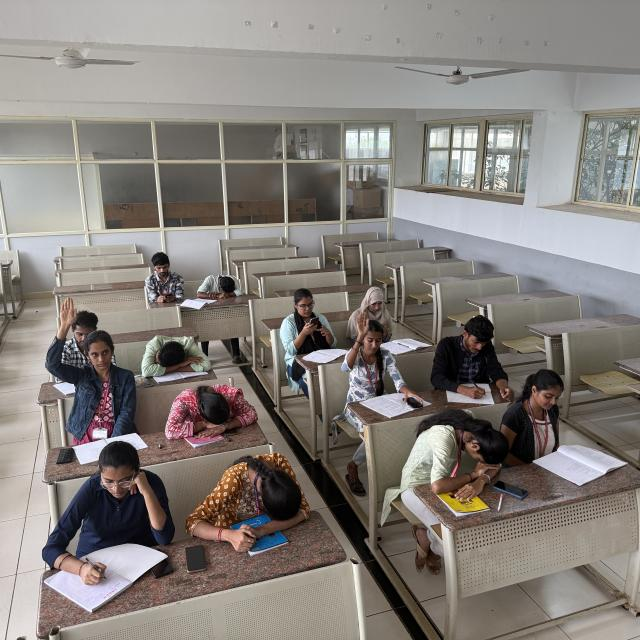Hand Rising: (44, 292, 138, 428), (344, 310, 406, 400)
Reading: (499, 369, 584, 462)
Sleeping: (197, 451, 316, 526), (414, 404, 514, 485), (164, 382, 262, 437), (139, 324, 213, 376), (193, 267, 250, 304)
Using Phone: (280, 282, 337, 350), (346, 287, 398, 340), (144, 250, 191, 307)
Writing: (46, 444, 160, 600), (437, 310, 529, 404)
